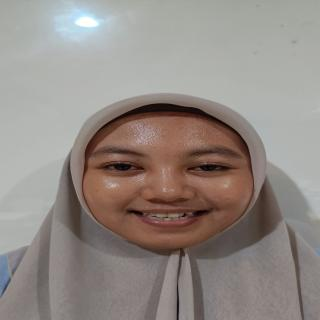Senang: (70, 108, 262, 255)
